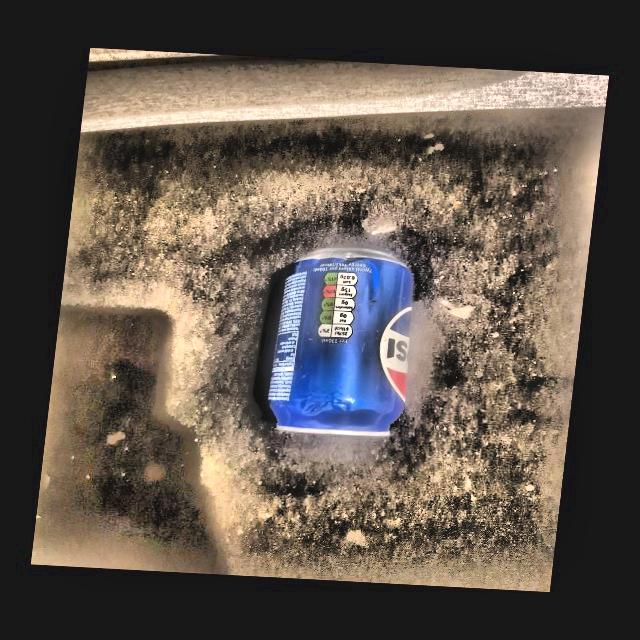pepsi-can: (259, 245, 417, 445)
